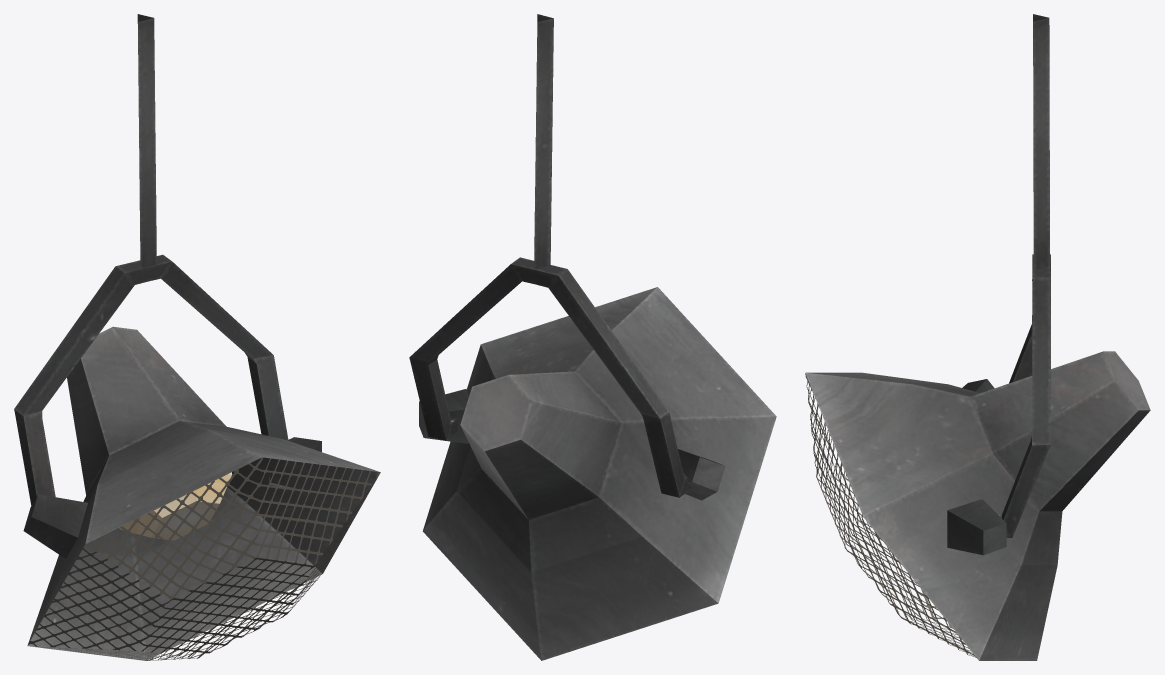
Rendered from Theater.Light_2.fbx.
The picture shows the model from 3 angles, left to right: view 1: azimuth 30°, elevation 25°; view 2: azimuth 150°, elevation 25°; view 3: azimuth 270°, elevation 25°; orthographic projection.
Visible parts, largest first — view 1: Theater.Light_2; view 2: Theater.Light_2; view 3: Theater.Light_2.
Part boxes in pixels (x1,y1,x2,y2): Theater.Light_2: (14, 14, 380, 660); Theater.Light_2: (409, 14, 776, 660); Theater.Light_2: (805, 14, 1150, 660).
Bounding box in the file's own units: 44.28 × 91.23 × 44.47.
